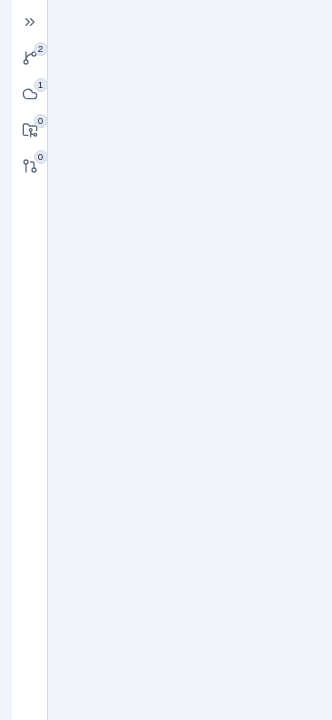
Test: SidebarRail › clicking a section icon expands, opens the section and scrolls to it
Click the button named "Worktrees (0)" at (30, 130), box 16,116 -> 44,144
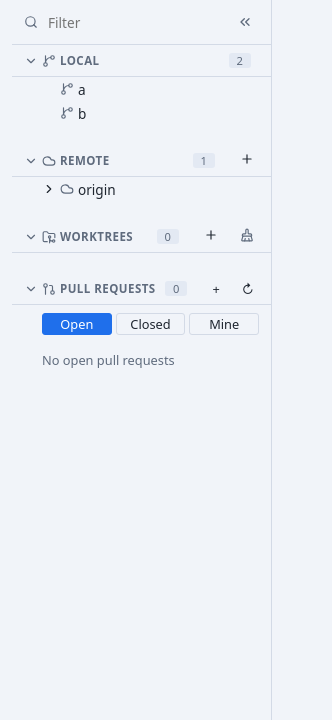
Check: the element "Worktrees" is shown, box 12,221 -> 271,265
